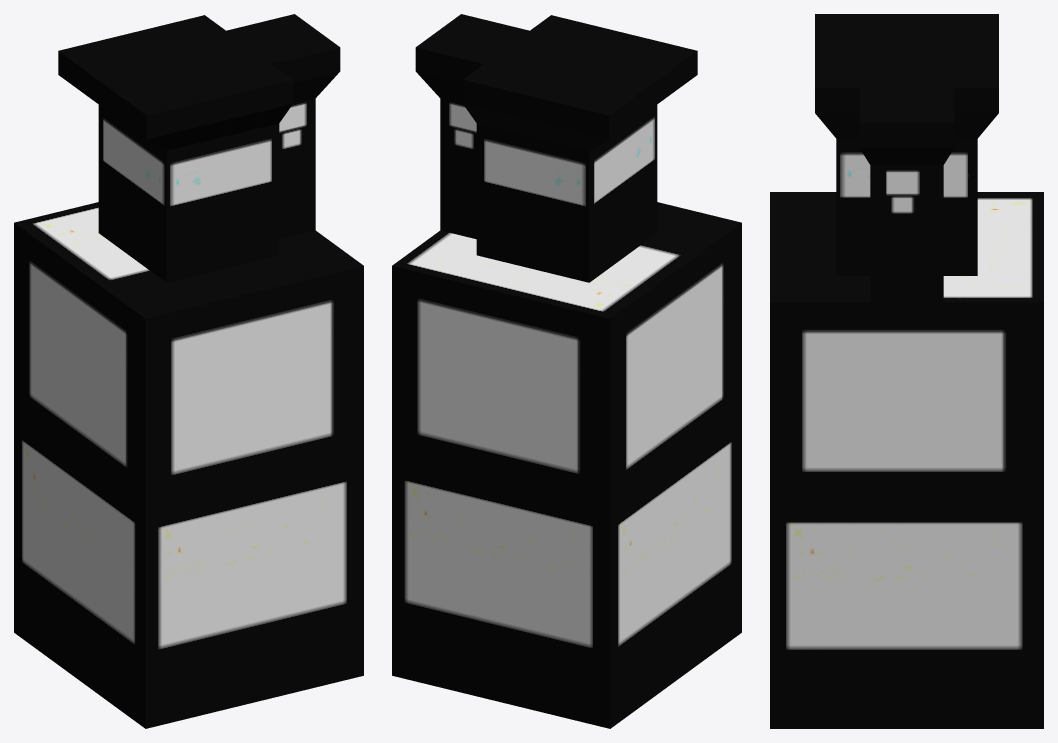
The model's file is prop1.FBX.
The picture shows the model from 3 angles, left to right: view 1: azimuth 30°, elevation 25°; view 2: azimuth 150°, elevation 25°; view 3: azimuth 270°, elevation 25°; orthographic projection. The views are drawn at different scales.
Parts seen in each view (by area): view 1: Box001; view 2: Box001; view 3: Box001.
Part boxes in pixels (left/top/right/bottom): Box001: left=14, top=14, right=363, bottom=728; Box001: left=392, top=14, right=741, bottom=728; Box001: left=770, top=14, right=1043, bottom=728.
Size of the model in its own units: 45.8 by 109 by 43.93.
